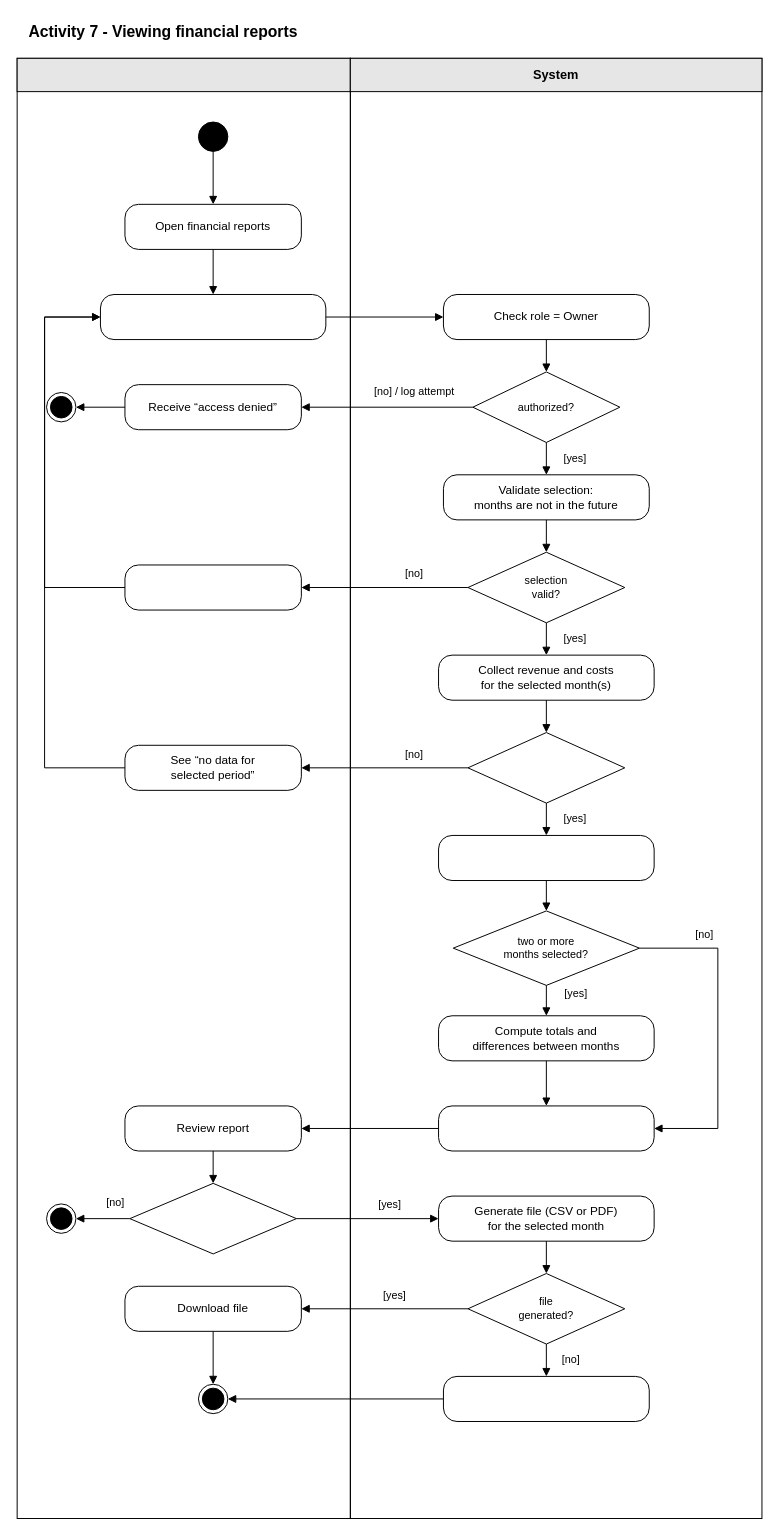
This 779x1536 diagram has some shape labels left out. Each missing label, with the centre of its shape:
"Aggregate earnings and costs by category, per month" goes at (x=546, y=857).
"data available?" goes at (x=546, y=767).
"Display report: revenue, costs, profit (and comparison)" goes at (x=546, y=1128).
"export report?" goes at (x=212, y=1218).
"Receive error, choose other period" goes at (x=212, y=587).
"Restaurant owner" goes at (x=183, y=74).
"Select month (or two or more months to compare)" goes at (x=212, y=317).
"Show error; report stays on screen" goes at (x=545, y=1398).
